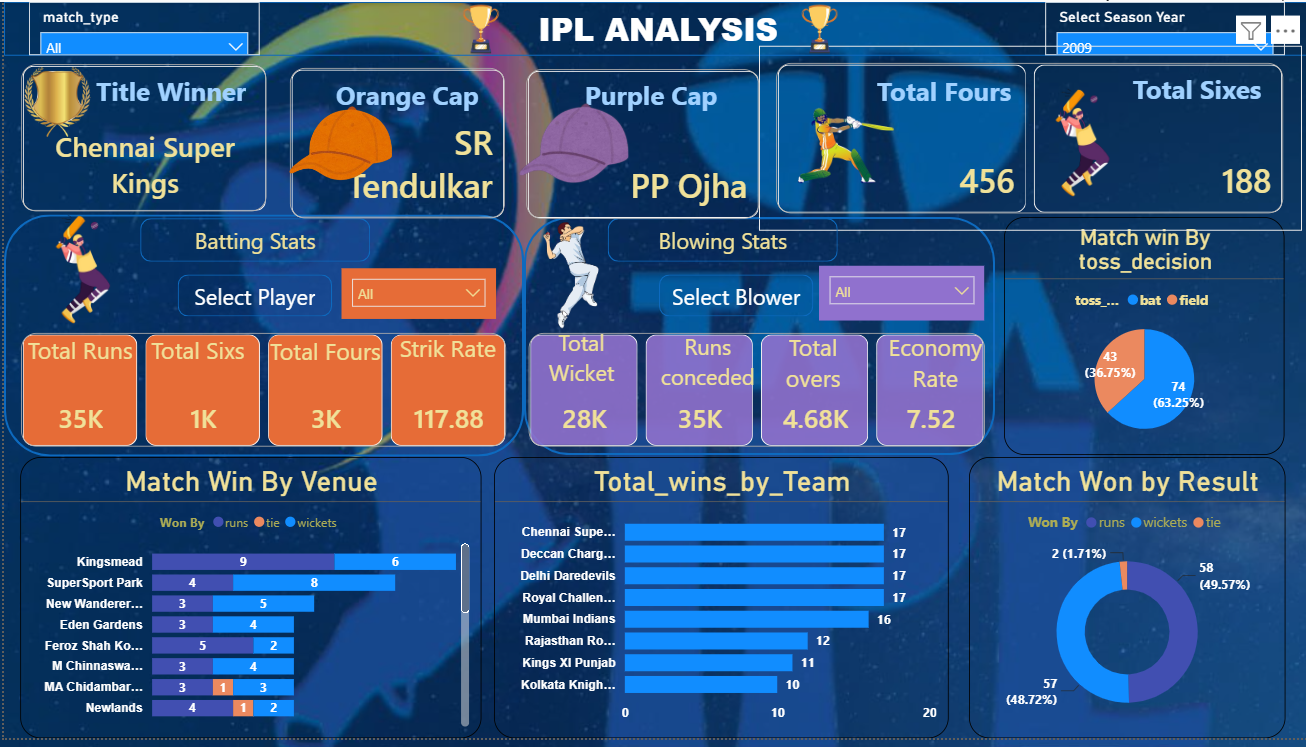

The dashboard page shown, as its layout file describes it:
{"tool":"powerbi","page":{"name":"Dash board","canvas":[1280,720],"ordinal":0},"visuals":[{"type":"shape","box":[508.9,210.1,460.8,232.9],"z":0},{"type":"shape","box":[0,207.6,508.9,236.7],"z":1000},{"type":"barChart","title":"Match Win By Venue","fields":{"Y":["CountNonNull(matches.venue)"],"Category":["matches.venue"],"Series":["matches.result"]},"box":[15.9,445.1,451.2,275.1],"z":2000},{"type":"barChart","title":"Total_wins_by_Team","fields":{"Category":["matches.winner"],"Y":["CountNonNull(matches.winner)"]},"box":[479.4,445.1,445.1,275.1],"z":3000},{"type":"donutChart","title":"Match Won by Result","fields":{"Y":["CountNonNull(matches.winner)"],"Category":["matches.result"]},"box":[944,445.1,309.4,275.1],"z":4000},{"type":"pieChart","title":"Match win By toss_decision","fields":{"Y":["CountNonNull(matches.winner)"],"Category":["matches.toss_decision"]},"box":[978.5,210.1,274.7,232.9],"z":5000},{"type":"shape","box":[0,0,1280.3,52.6],"z":6000},{"type":"image","box":[424.3,0,84.4,52.6],"z":7000},{"type":"slicer","fields":{"Values":["matches.Season Year"]},"box":[1019,0,234.2,51.9],"z":8000},{"type":"cardVisual","fields":{"Data":["measure.total_fours","measure.total_sixes"]},"box":[738.3,42.5,531,181.1],"z":9000},{"type":"shape","box":[1053.1,63.8,181.1,56.3],"z":10000,"group":"g1"},{"type":"image","box":[978.3,79.5,148,116.2],"z":10000},{"type":"group","id":"g1","title":"Group 1","box":[772.6,63.8,461.7,132.1],"z":11000},{"type":"shape","box":[60.4,65.9,181.1,56.3],"z":11000,"group":"g2"},{"type":"shape","box":[808.1,66.3,181,56.3],"z":11000,"group":"g1"},{"type":"image","box":[755.7,0,84.4,52.6],"z":12000},{"type":"image","box":[772.6,90.7,101.5,105.2],"z":12000,"group":"g1"},{"type":"shape","box":[286.8,70,181.1,56.3],"z":13000},{"type":"shape","box":[521.4,70,181.1,56.3],"z":14000},{"type":"cardVisual","fields":{"Data":["measure.total_run","measure.total_sixes","measure.total_fours","measure.Strik_rate"]},"box":[0,307.4,509.1,145.5],"z":15000},{"type":"shape","box":[0,319.2,149.2,40.4],"z":16000},{"type":"shape","box":[115.3,319.7,149.6,39.8],"z":17000},{"type":"shape","box":[239.2,320.3,149.4,39.2],"z":18000},{"type":"shape","box":[359.5,318.4,149.6,39.8],"z":19000},{"type":"slicer","fields":{"Values":["deliveries.batter"]},"box":[330.7,260.7,150.9,49.4],"z":20000},{"type":"shape","box":[133.1,211.3,225,42.5],"z":21000},{"type":"shape","box":[170.2,266.2,150.9,41.2],"z":22000},{"type":"image","box":[0,203.1,148.2,116.6],"z":23000},{"type":"cardVisual","fields":{"Data":["measure.Total_wickets","measure.Total_run_by_baller","measure.Total_over","measure.Economy_rate"]},"box":[496.7,307.4,481.6,145.5],"z":24000},{"type":"slicer","fields":{"Values":["deliveries.bowler"]},"box":[797.3,258,161.9,53.5],"z":25000},{"type":"shape","box":[590.1,211.3,225,42.5],"z":26000},{"type":"shape","box":[640.8,266.2,150.9,41.2],"z":27000},{"type":"image","box":[481.6,215.4,145.5,104.3],"z":28000},{"type":"shape","box":[509.1,315.6,112.5,64.5],"z":29000},{"type":"shape","box":[621.6,310.1,134.5,81],"z":30000},{"type":"image","box":[11,54.9,86.4,87.8],"z":31000,"group":"g2"},{"type":"shape","box":[747.9,315.6,86.4,72.7],"z":31000},{"type":"shape","box":[853.5,315.6,115.3,72.7],"z":32000},{"type":"slicer","fields":{"Values":["matches.match_type"]},"box":[24.1,0,225.3,51.9],"z":33000},{"type":"group","id":"g2","title":"Group 2","box":[11,54.9,230.5,87.8],"z":34000},{"type":"cardVisual","fields":{"Data":["Min(deliveries.batter)"]},"box":[263.5,48,244.3,181.1],"z":35000},{"type":"cardVisual","fields":{"Data":["Min(matches.winner)"]},"box":[0,43.9,274.4,178.4],"z":36000},{"type":"cardVisual","fields":{"Data":["Min(deliveries.bowler)"]},"box":[493.7,48.5,262.6,180.3],"z":37000},{"type":"image","box":[278.6,96.1,104.3,85.1],"z":38000},{"type":"image","box":[491.4,96.9,134.1,84.5],"z":39000}]}

Visuals, with their boxes in screenshot pixels (x1, y1, x2, y2), scaled from the page's 1280x720 canvas onto the 1306x747 screenshot:
shape: 519,218,989,460
shape: 0,215,519,461
"Match Win By Venue" barChart: 16,462,477,746
"Total_wins_by_Team" barChart: 489,462,943,746
"Match Won by Result" donutChart: 963,462,1279,746
"Match win By toss_decision" pieChart: 998,218,1279,460
shape: 0,0,1305,55
image: 433,0,519,55
slicer - matches.Season Year: 1040,0,1279,54
cardVisual - measure.total_fours x measure.total_sixes: 753,44,1295,232
shape: 1074,66,1259,125
image: 998,82,1149,203
"Group 1" group: 788,66,1259,203
shape: 62,68,246,127
shape: 825,69,1009,127
image: 771,0,857,55
image: 788,94,892,203
shape: 293,73,477,131
shape: 532,73,717,131
cardVisual - measure.total_run x measure.total_sixes: 0,319,519,470
shape: 0,331,152,373
shape: 118,332,270,373
shape: 244,332,396,373
shape: 367,330,519,372
slicer - deliveries.batter: 337,270,491,322
shape: 136,219,365,263
shape: 174,276,328,319
image: 0,211,151,332
cardVisual - measure.Total_wickets x measure.Total_run_by_baller: 507,319,998,470
slicer - deliveries.bowler: 813,268,979,323
shape: 602,219,832,263
shape: 654,276,808,319
image: 491,223,640,332
shape: 519,327,634,394
shape: 634,322,771,406
image: 11,57,99,148
shape: 763,327,851,403
shape: 871,327,988,403
slicer - matches.match_type: 25,0,254,54
"Group 2" group: 11,57,246,148
cardVisual - Min(deliveries.batter): 269,50,518,238
cardVisual - Min(matches.winner): 0,46,280,231
cardVisual - Min(deliveries.bowler): 504,50,772,237
image: 284,100,391,188
image: 501,101,638,188
